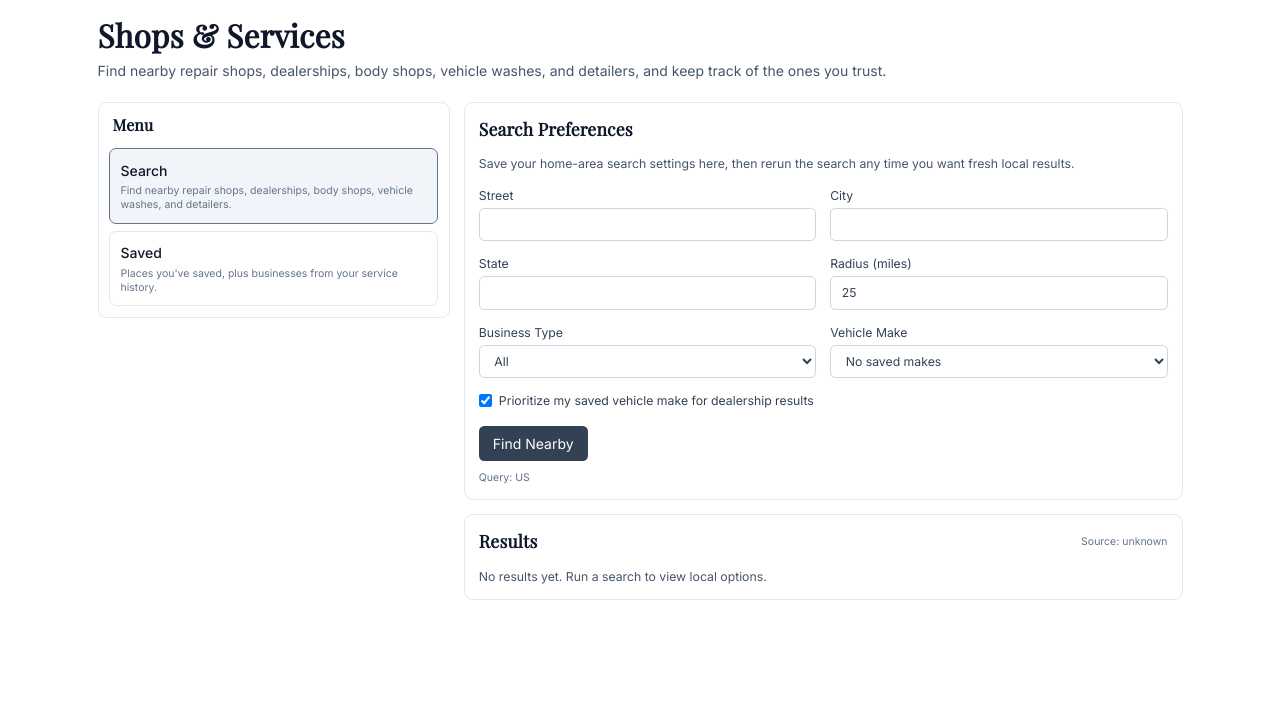
Test: ServiceProviders › shows error message when provider lookup throws
This screenshot has width=1280, height=720.
Expected: the heading "Shops & Services" is shown, [98, 14, 345, 56]
In the field labelled "Street": (647, 224) [479, 208, 816, 241], type "5 Pine Ave"
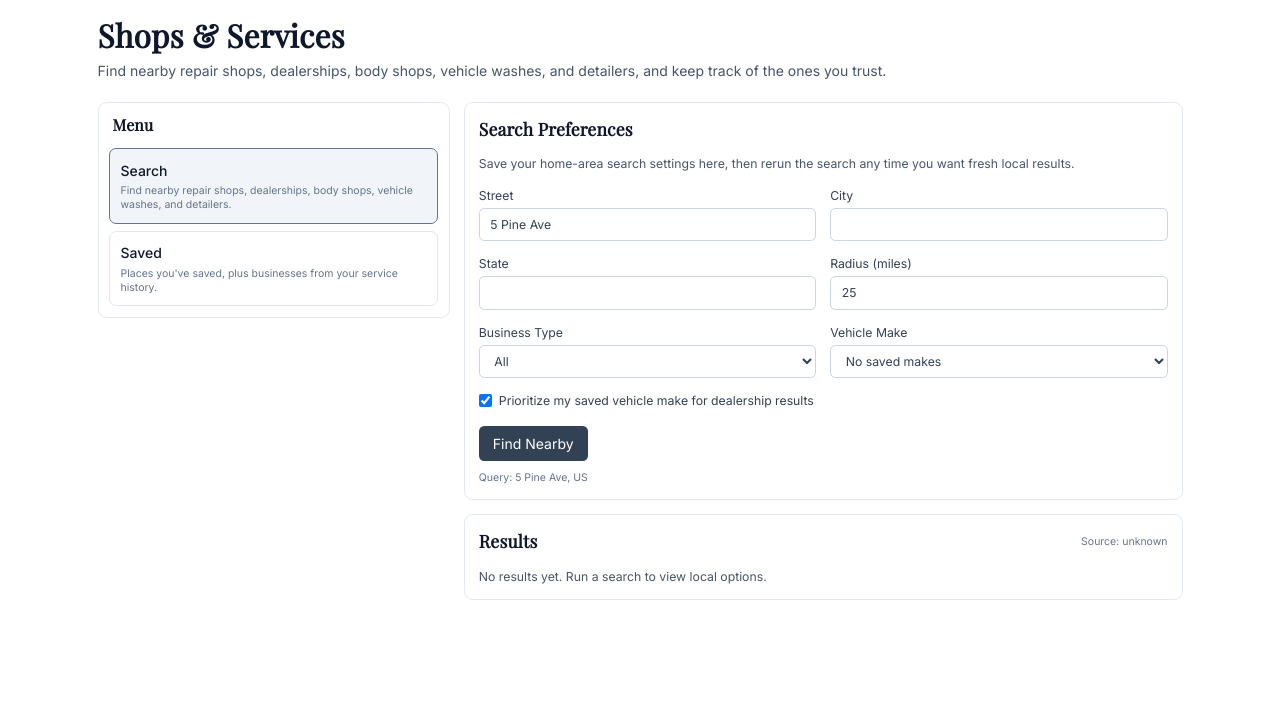
In the field labelled "City": (999, 224) [830, 208, 1168, 241], type "Rockford"
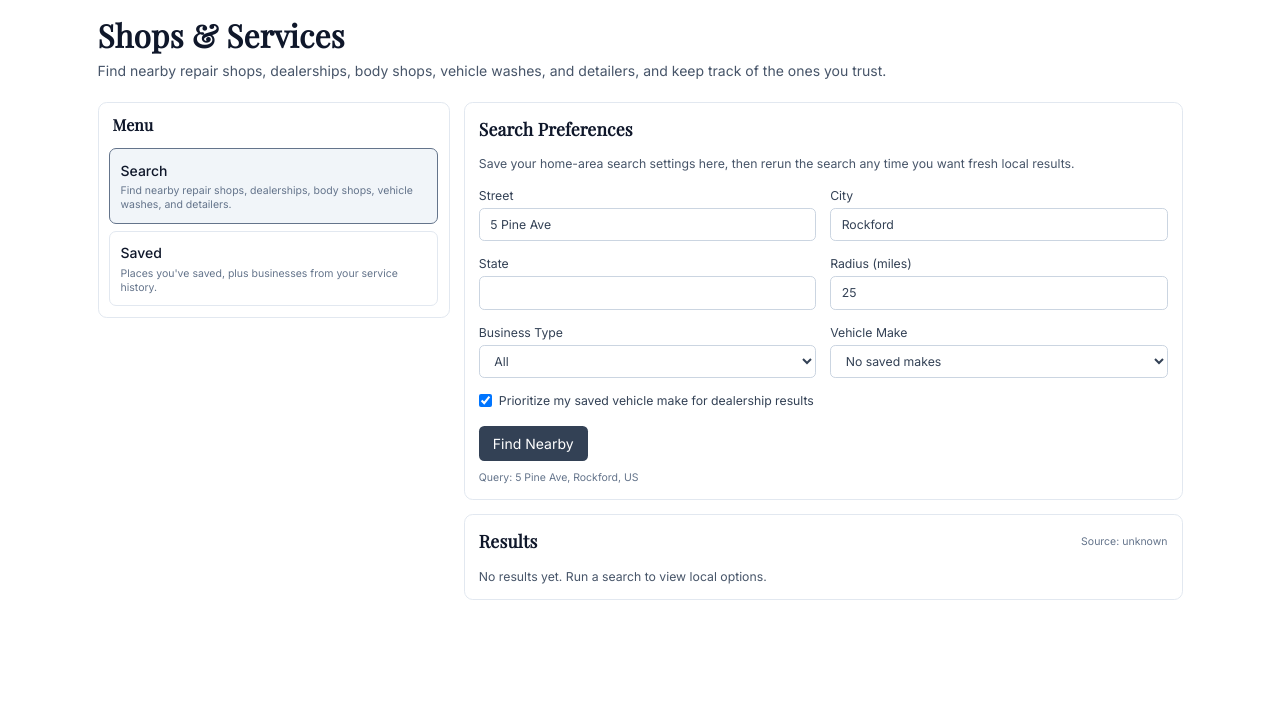
In the field labelled "State": (647, 293) [479, 276, 816, 310], type "IL"
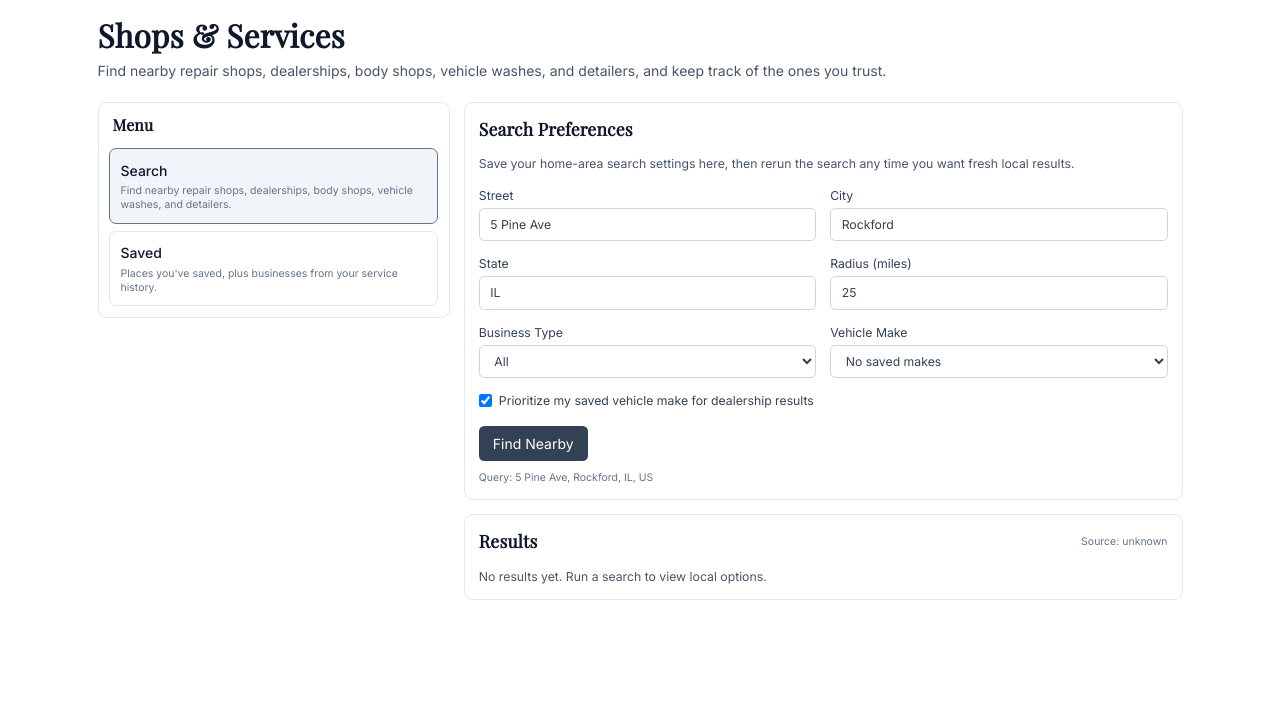
Click the button "Find Nearby": (533, 443) [479, 426, 588, 461]
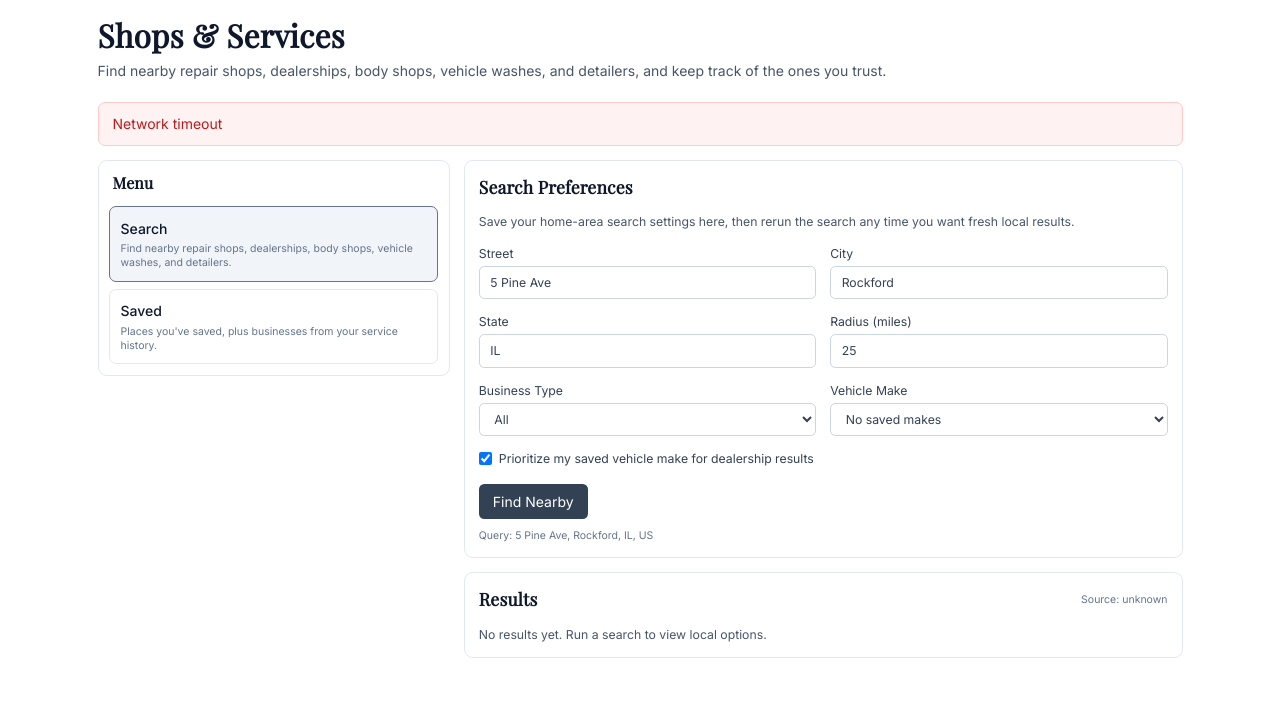
Now the text "Network timeout" is shown, box [98, 102, 1182, 146]
